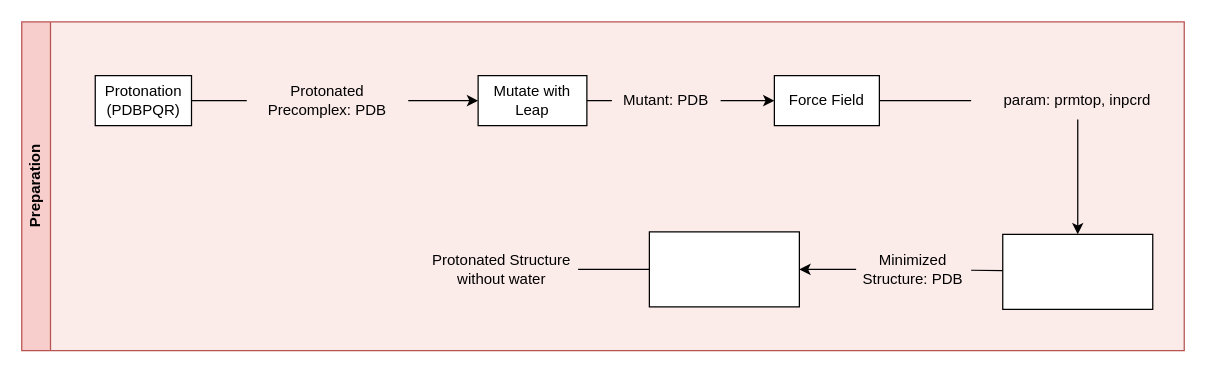
Some shapes in this 1206 by 373 pixel diagram are drawn without their labels. The shapes that lost their labels are listed below. From the top down, each one's centre as x and y in pixels, then its label:
[723,269]: Remove water and H, Protonate again
[1077,271]: Minimization to relax the crude initial mutation struct.
